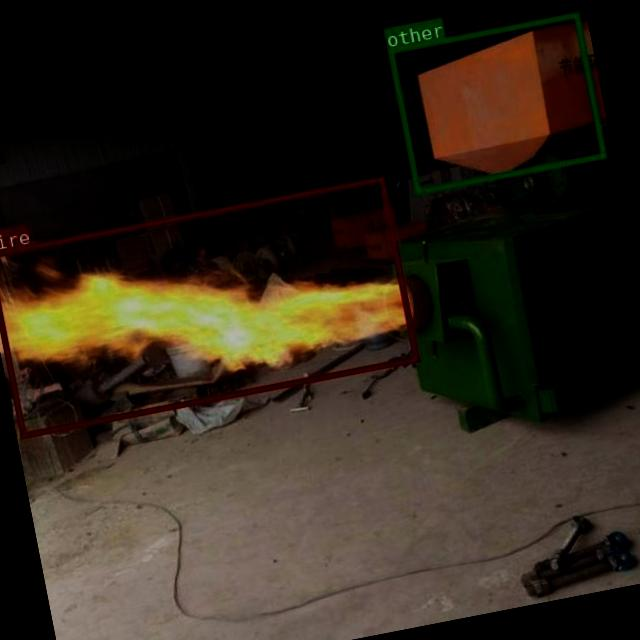fire: (0, 175, 418, 437)
